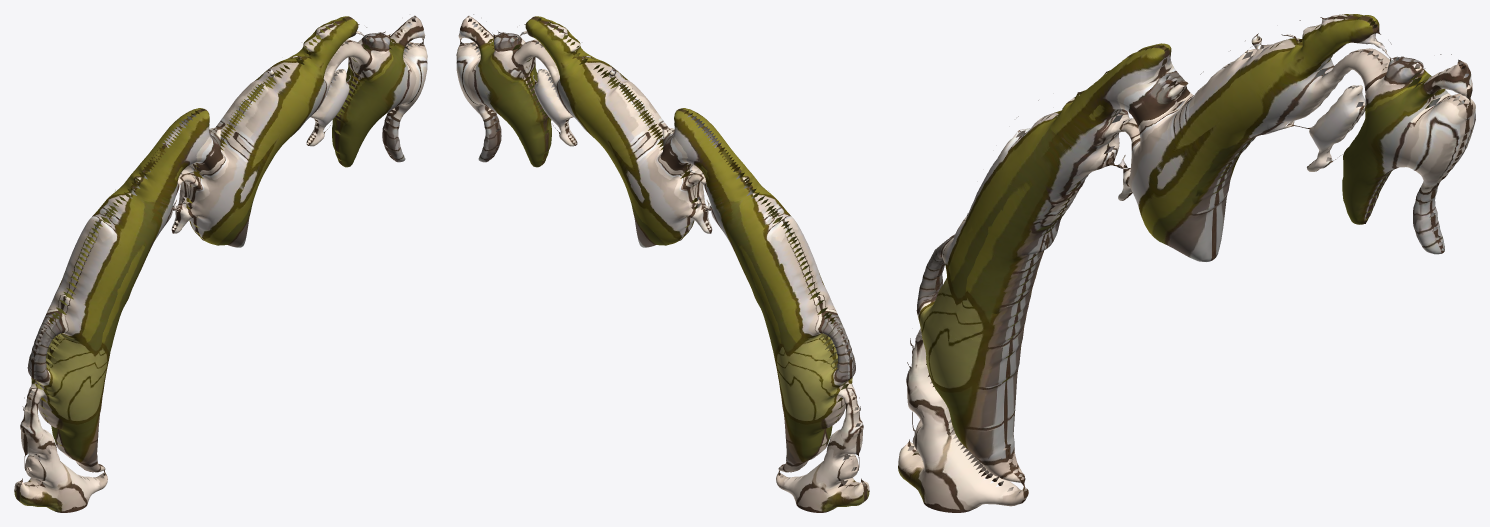
The model's file is ribbed_arch.glb.
3 renders of one model, left to right at view 1: azimuth 30°, elevation 25°; view 2: azimuth 150°, elevation 25°; view 3: azimuth 330°, elevation 25°, orthographic. The views are drawn at different scales.
Parts seen in each view (by area): view 1: ribbed_arch; view 2: ribbed_arch; view 3: ribbed_arch.
Part boxes in pixels (x1=…): ribbed_arch: x1=14, y1=15, x2=427, y2=512; ribbed_arch: x1=456, y1=14, x2=869, y2=512; ribbed_arch: x1=898, y1=14, x2=1475, y2=512.
Bounding box in the file's own units: 0.9897 × 0.958 × 0.1734.
Materials: 1 (1 with a texture image).
